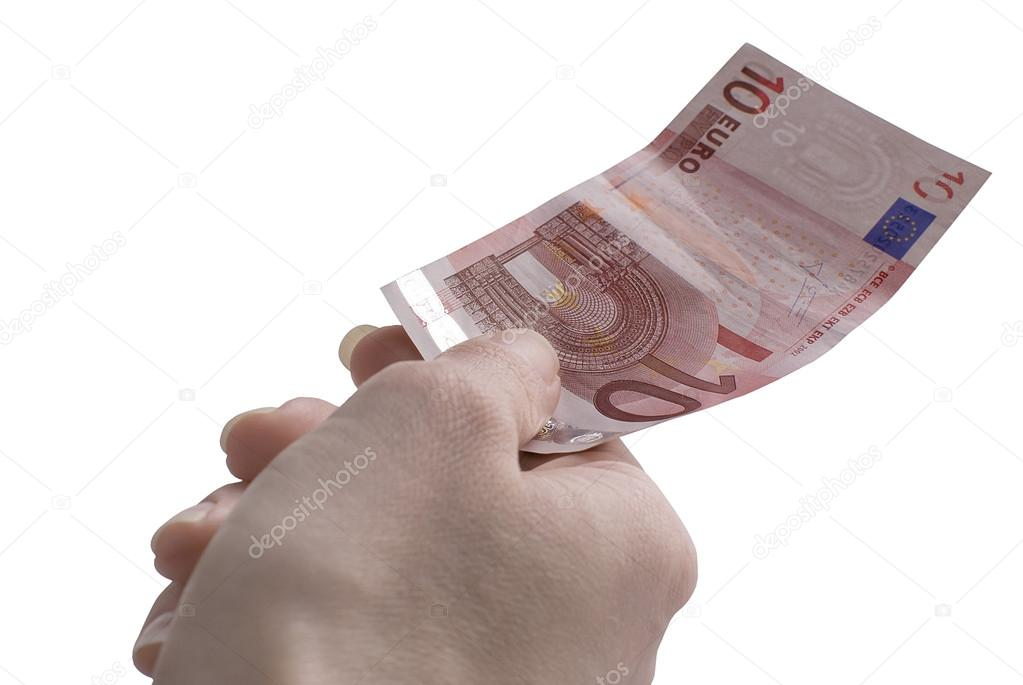billete: (376, 40, 996, 456)
